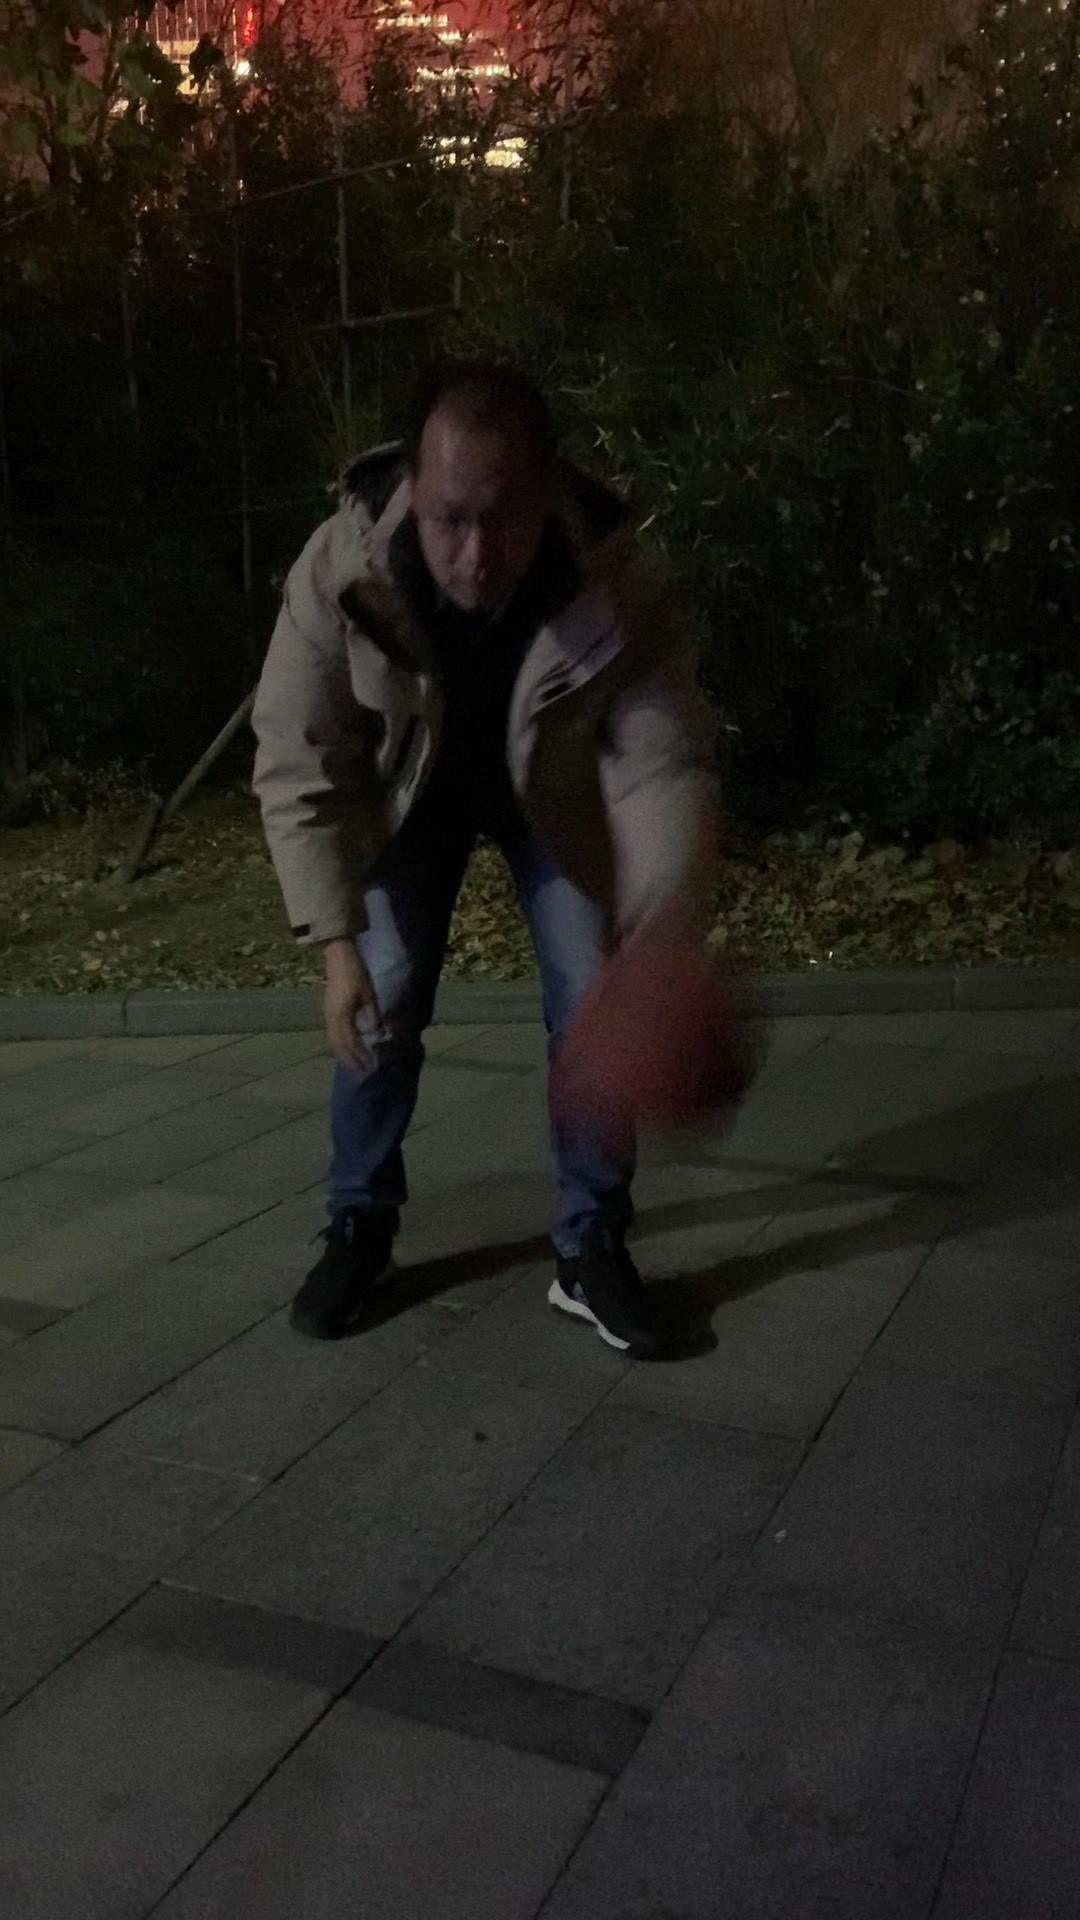ball: (579, 938, 767, 1124)
